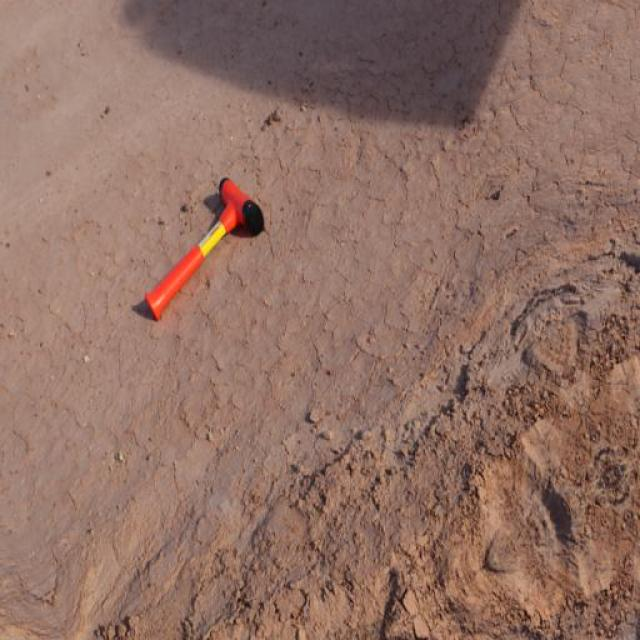mallet: (142, 175, 264, 321)
